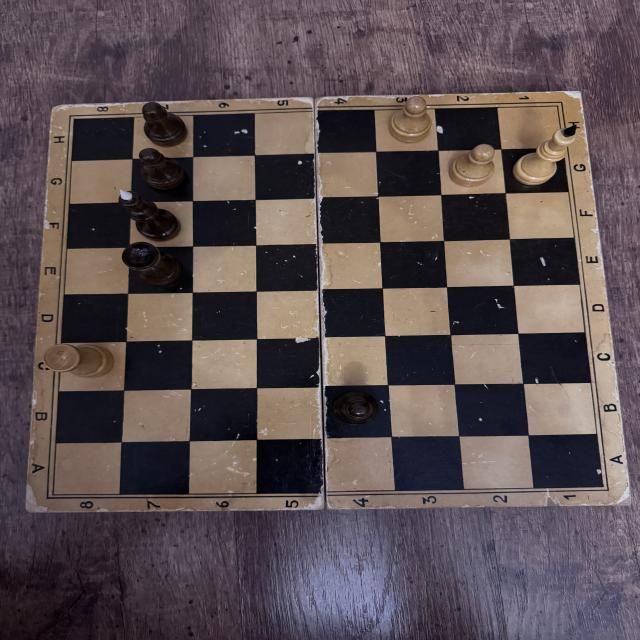black-king: (118, 190, 182, 242)
black-pawn: (135, 147, 190, 191), (140, 101, 189, 147), (332, 389, 380, 425)
black-rook: (120, 242, 181, 287)
white-king: (512, 123, 576, 187)
white-pawn: (446, 143, 501, 187), (389, 95, 434, 143)
white-rook: (41, 343, 114, 379)
